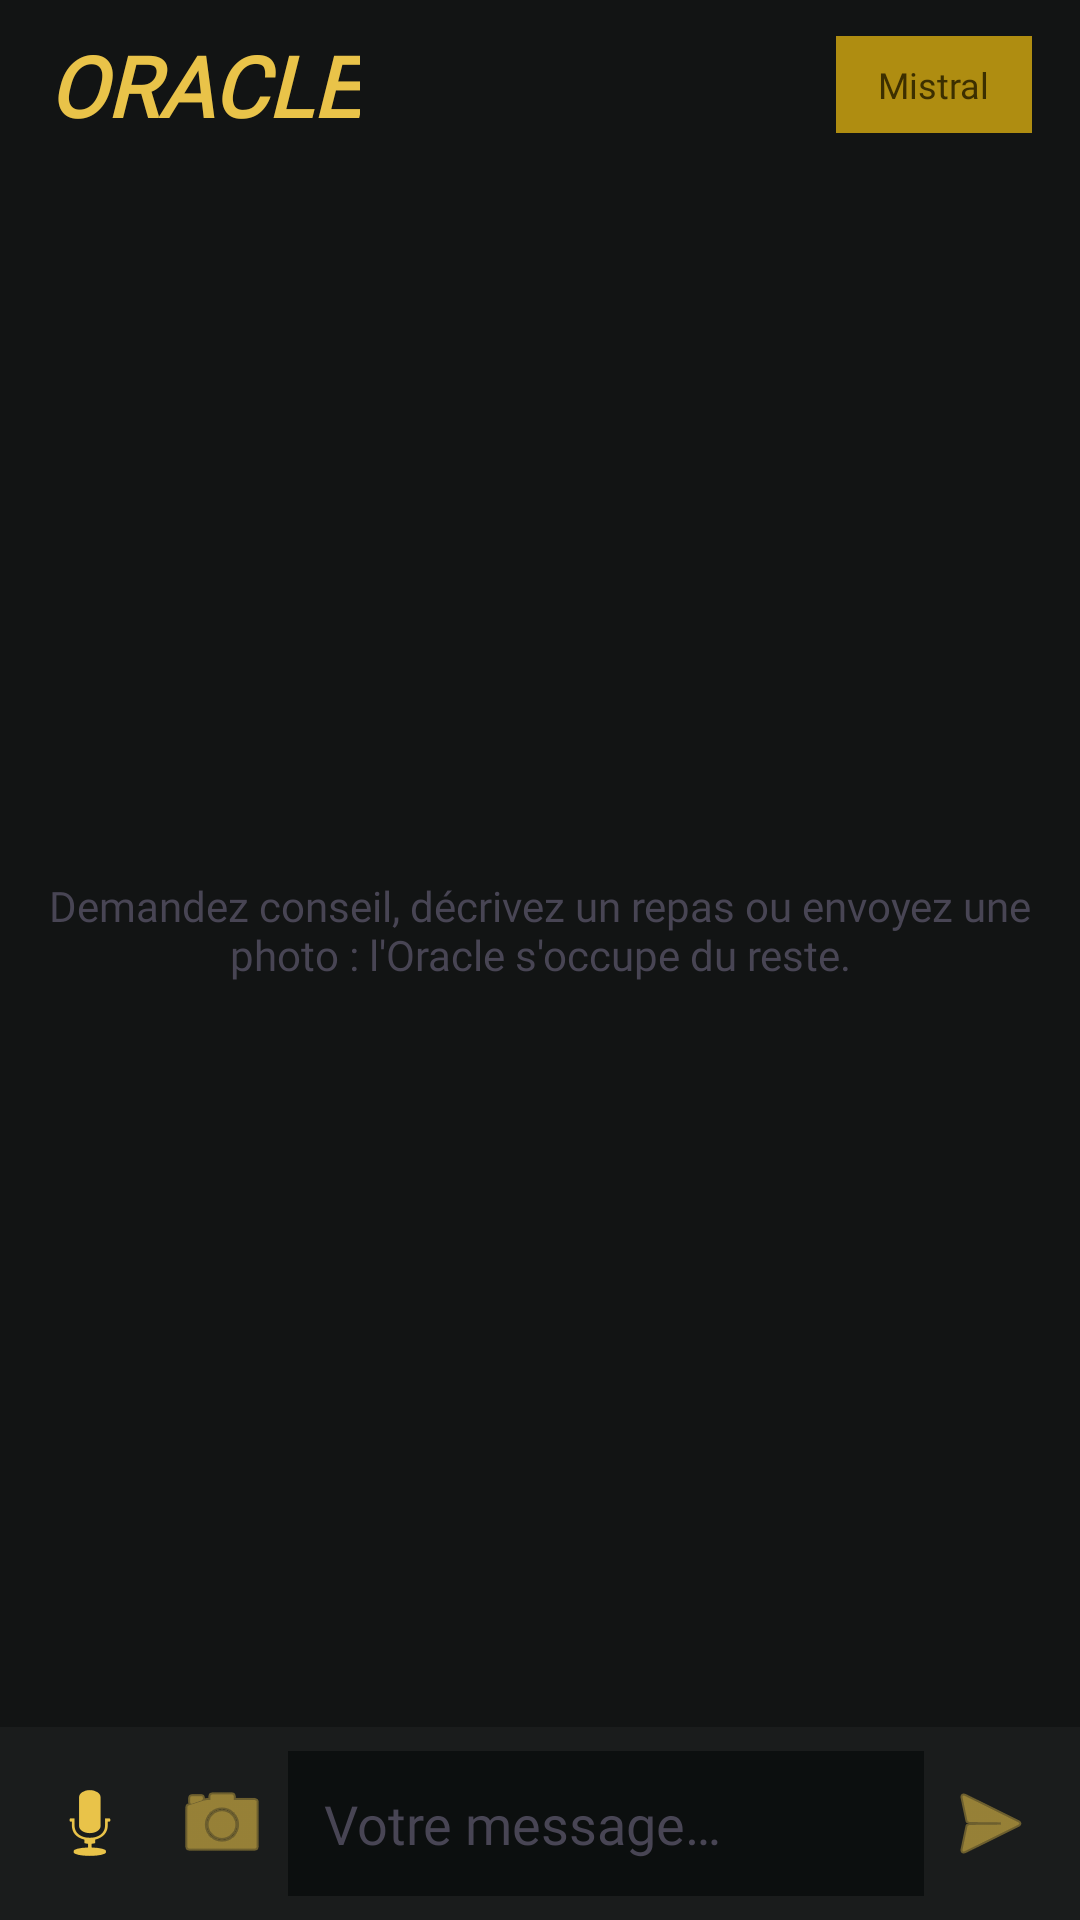

Icons on this 1080px×1920px Android screen, each with the point to tap as point (x, y):
camera: point (222, 1821)
Dicter: point (90, 1823)
Envoyer: point (991, 1823)
